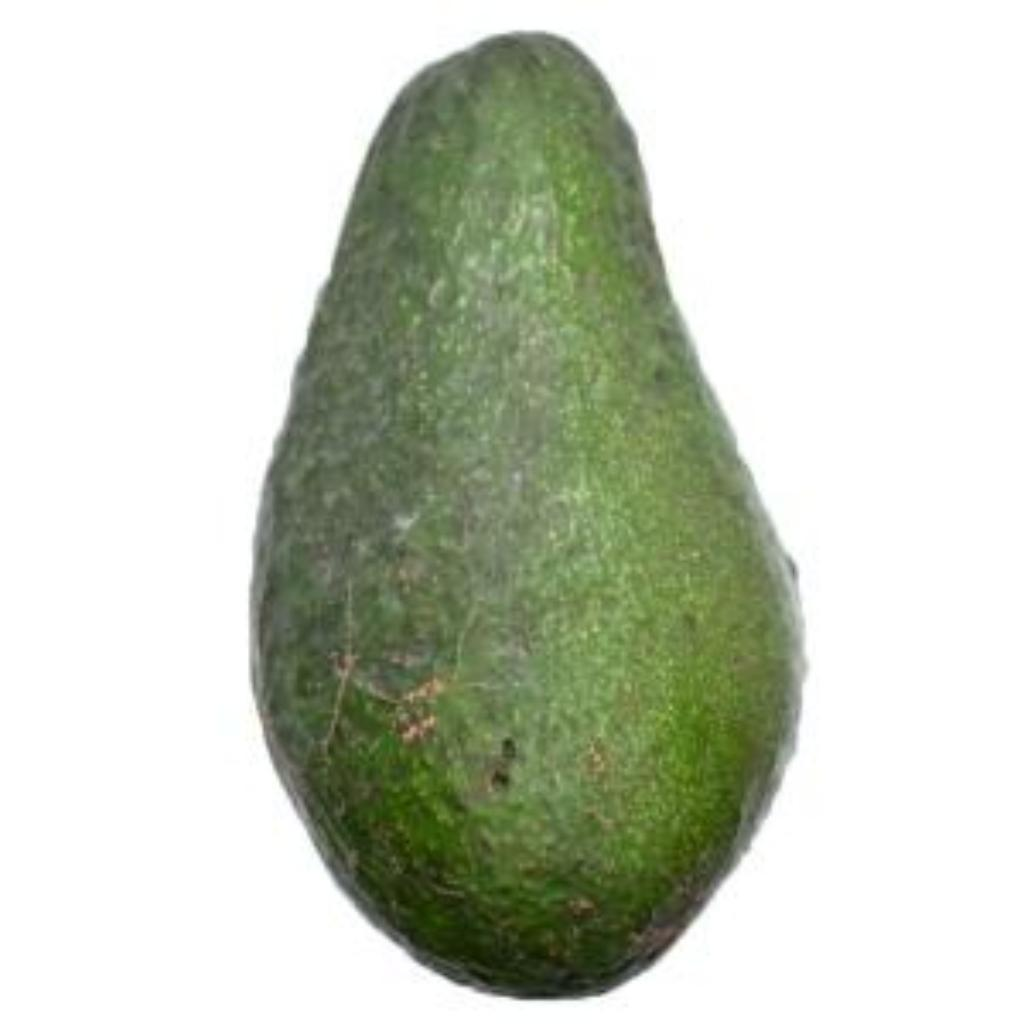cercospora_spot: (226, 9, 874, 1009)
